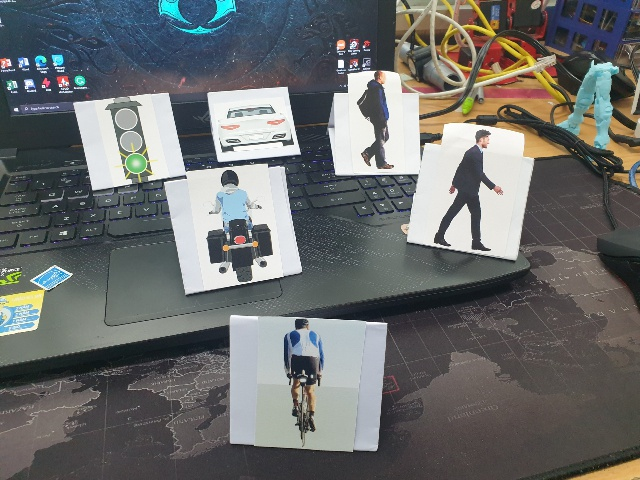Car: (218, 104, 294, 148)
Cyclist: (277, 320, 328, 447)
Green Light: (104, 98, 163, 182)
Motorcycle: (204, 170, 274, 282)
Person: (437, 129, 504, 256), (353, 71, 400, 172)
